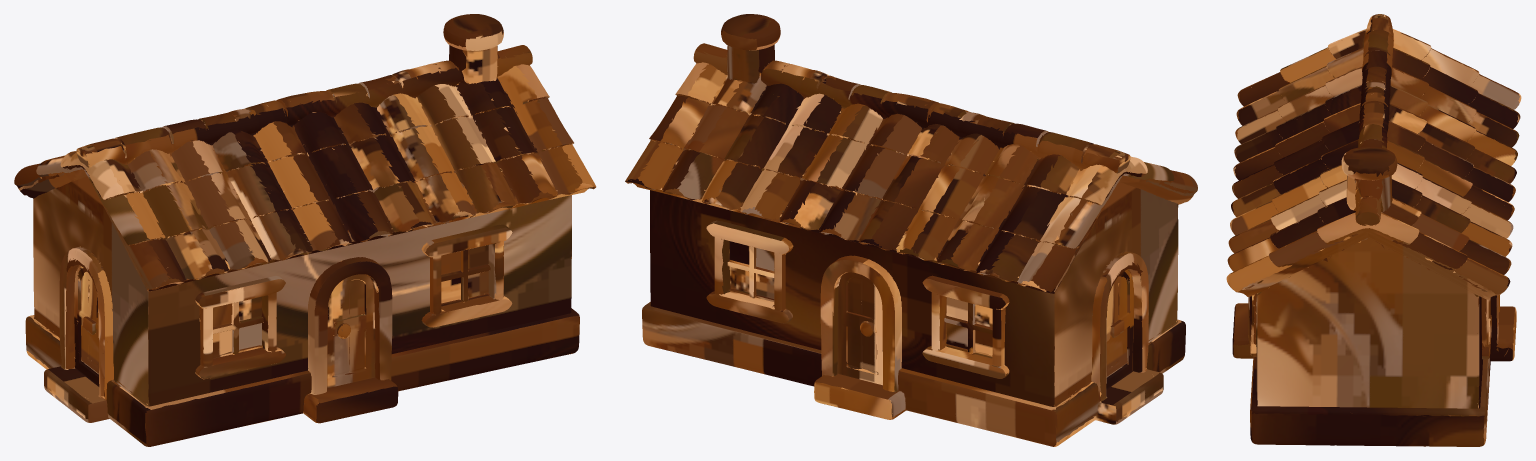
Rendered from Casa5.fbx.
3 views of the same model, side by side, from view 1: azimuth 30°, elevation 25°; view 2: azimuth 150°, elevation 25°; view 3: azimuth 270°, elevation 25° (orthographic). The views are drawn at different scales.
Visible parts, largest first — view 1: model.003; view 2: model.003; view 3: model.003.
Part boxes in pixels (x1,y1,x2,y2): model.003: (14, 14, 596, 446); model.003: (625, 14, 1197, 446); model.003: (1226, 14, 1521, 446).
Size of the model in its own units: 192 by 117 by 115.
